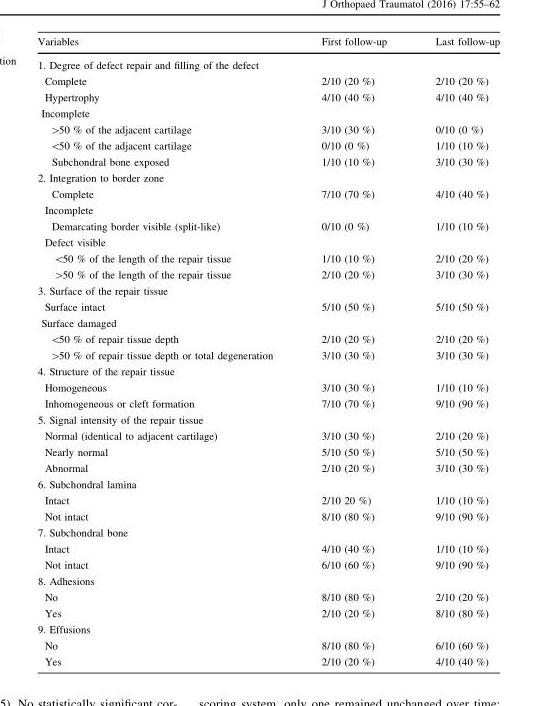table: (36, 36, 499, 666)
table column: (36, 36, 296, 666), (296, 36, 410, 666), (410, 36, 499, 666)
table column header: (36, 36, 499, 53)
table projected row header: (36, 53, 499, 73), (36, 169, 499, 186), (36, 202, 499, 218), (36, 411, 499, 427), (36, 476, 499, 492), (36, 524, 499, 540), (36, 573, 499, 589), (36, 621, 499, 637), (36, 105, 499, 120), (36, 234, 499, 249), (36, 283, 499, 298), (36, 315, 499, 330), (36, 364, 499, 379)
table row: (36, 53, 499, 73), (36, 36, 499, 53), (36, 120, 499, 137), (36, 137, 499, 154), (36, 169, 499, 186), (36, 249, 499, 266), (36, 266, 499, 283), (36, 298, 499, 315), (36, 330, 499, 347), (36, 347, 499, 364), (36, 427, 499, 444), (36, 556, 499, 573), (36, 73, 499, 89), (36, 89, 499, 105), (36, 186, 499, 202), (36, 202, 499, 218), (36, 218, 499, 234), (36, 379, 499, 395), (36, 395, 499, 411), (36, 411, 499, 427), (36, 444, 499, 460), (36, 460, 499, 476), (36, 476, 499, 492), (36, 492, 499, 508), (36, 508, 499, 524), (36, 524, 499, 540), (36, 540, 499, 556), (36, 573, 499, 589), (36, 589, 499, 605), (36, 605, 499, 621), (36, 621, 499, 637), (36, 637, 499, 653), (36, 105, 499, 120), (36, 154, 499, 169), (36, 234, 499, 249), (36, 283, 499, 298), (36, 315, 499, 330), (36, 364, 499, 379), (36, 653, 499, 666)
